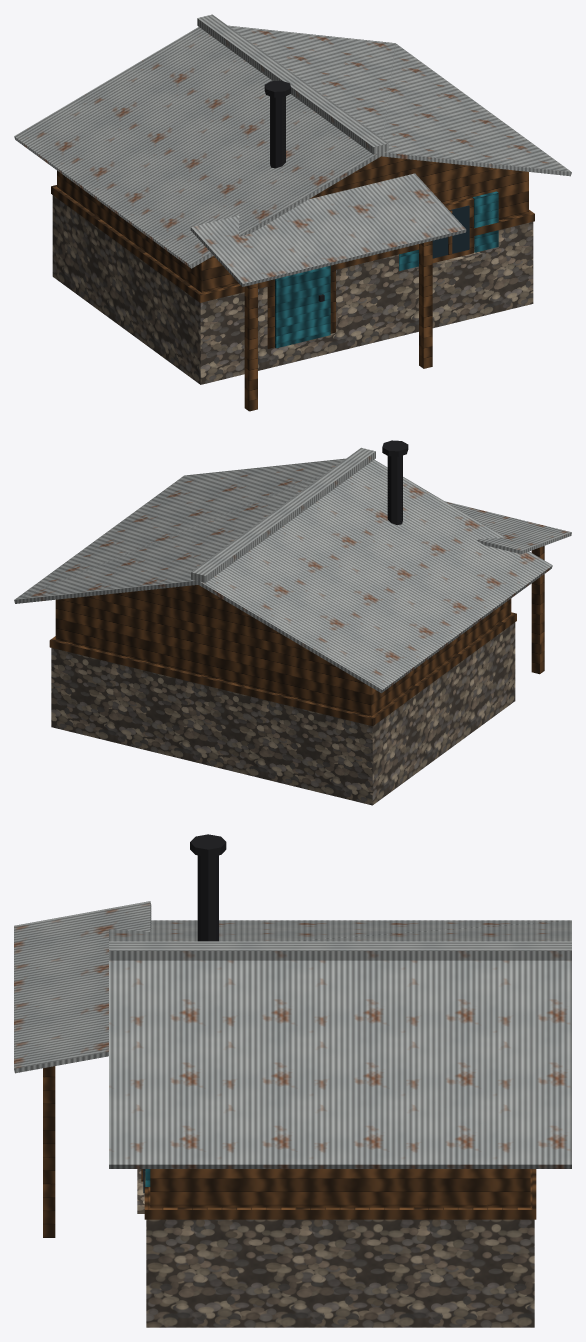
The model's file is CasaRustica2.obj.
3 views of the same model, one above another, from view 1: azimuth 30°, elevation 25°; view 2: azimuth 150°, elevation 25°; view 3: azimuth 270°, elevation 25° (orthographic). The views are drawn at different scales.
Parts seen in each view (by area): view 1: CasaRustica2; view 2: CasaRustica2; view 3: CasaRustica2.
Part boxes in pixels (x1,y1,x2,y2): CasaRustica2: (14, 14, 571, 411); CasaRustica2: (14, 440, 571, 805); CasaRustica2: (14, 834, 571, 1327).
Size of the model in its own units: 7 by 4.5 by 6.75.
Materials: 7 (5 with a texture image).
